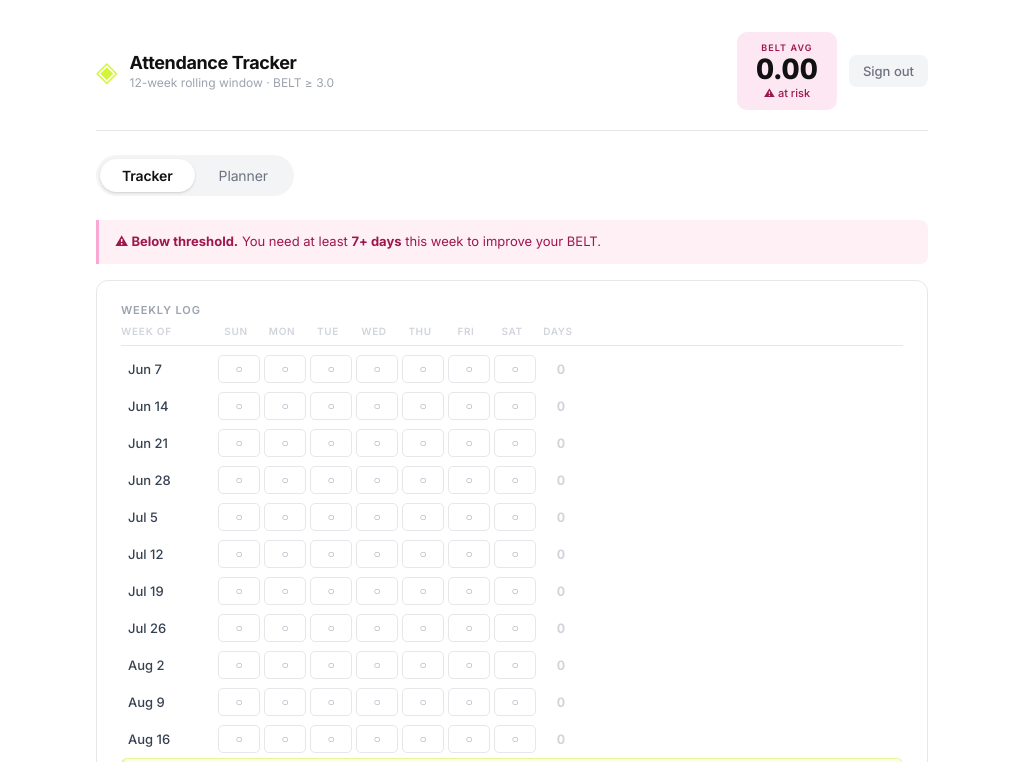
Test: AttendanceTracker rendering › renders the Planner tab
Click the button "Planner": [243, 176] box [197,159,290,192]
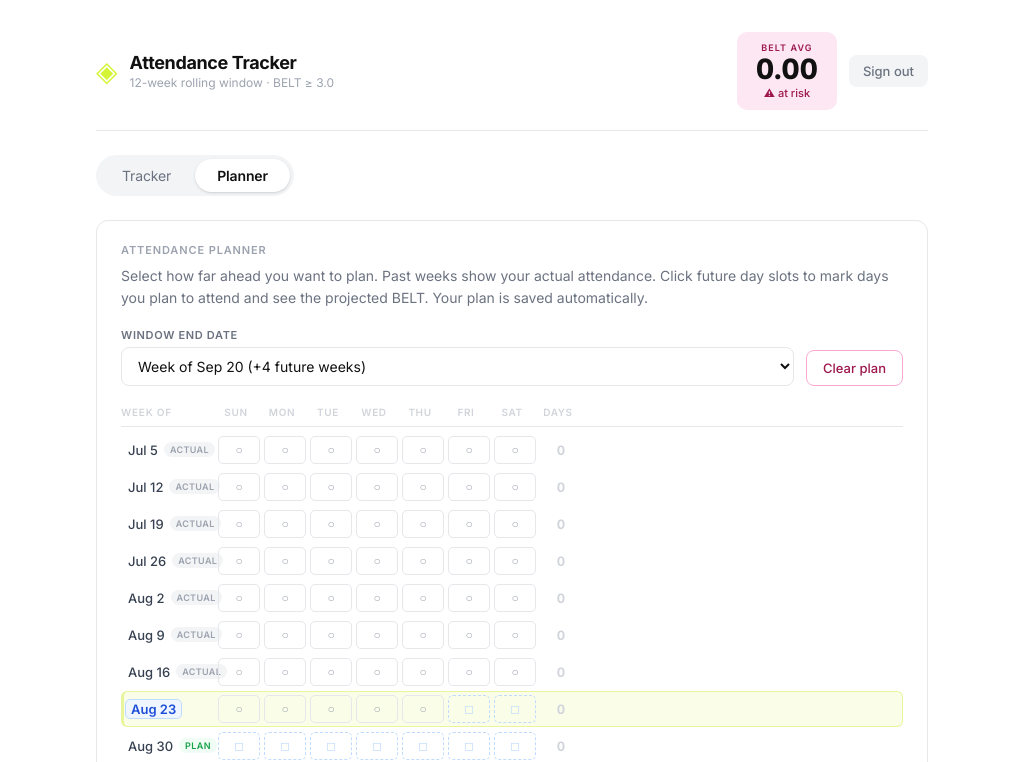
Now the heading "Attendance Planner" is shown, box [121,243,267,257]
